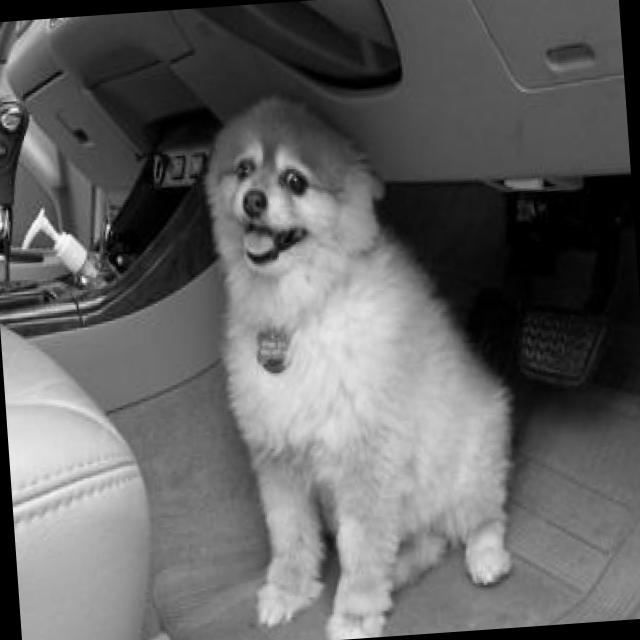sitting: (194, 74, 529, 640)
